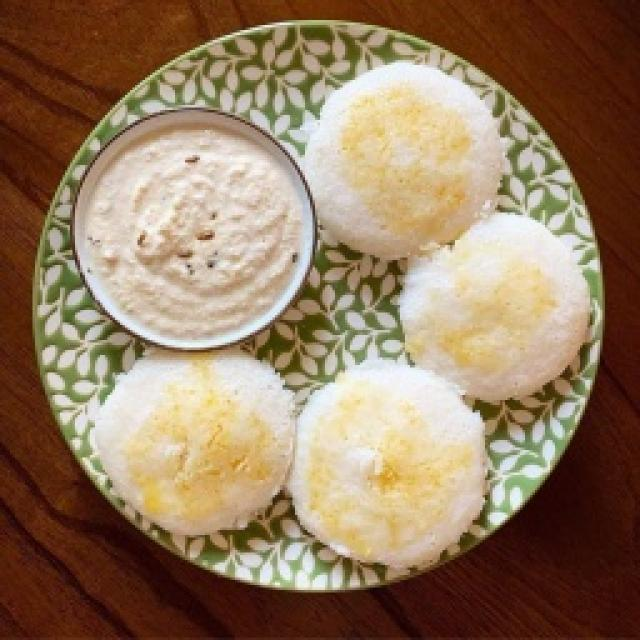idli: (288, 360, 487, 567), (305, 63, 502, 259), (95, 350, 294, 534), (400, 213, 589, 399)
